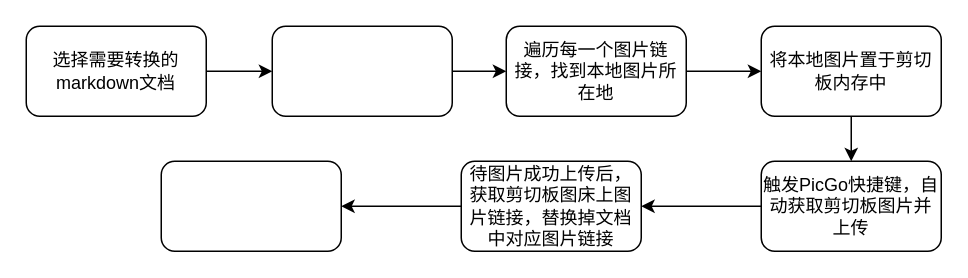
The diagram is 968 pixels wide and 278 high, and some of its shapes have lost their labels. The shapes that lost their labels are listed below. From the top down, each one's box as (x1, y1, x2, y2) in pixels, then its label:
(271, 25, 452, 116): 自动识别文档中图片链接，存储于List中
(160, 160, 341, 251): 所有图片替换完成后提示转换完成，并给出新markdown文档位置
